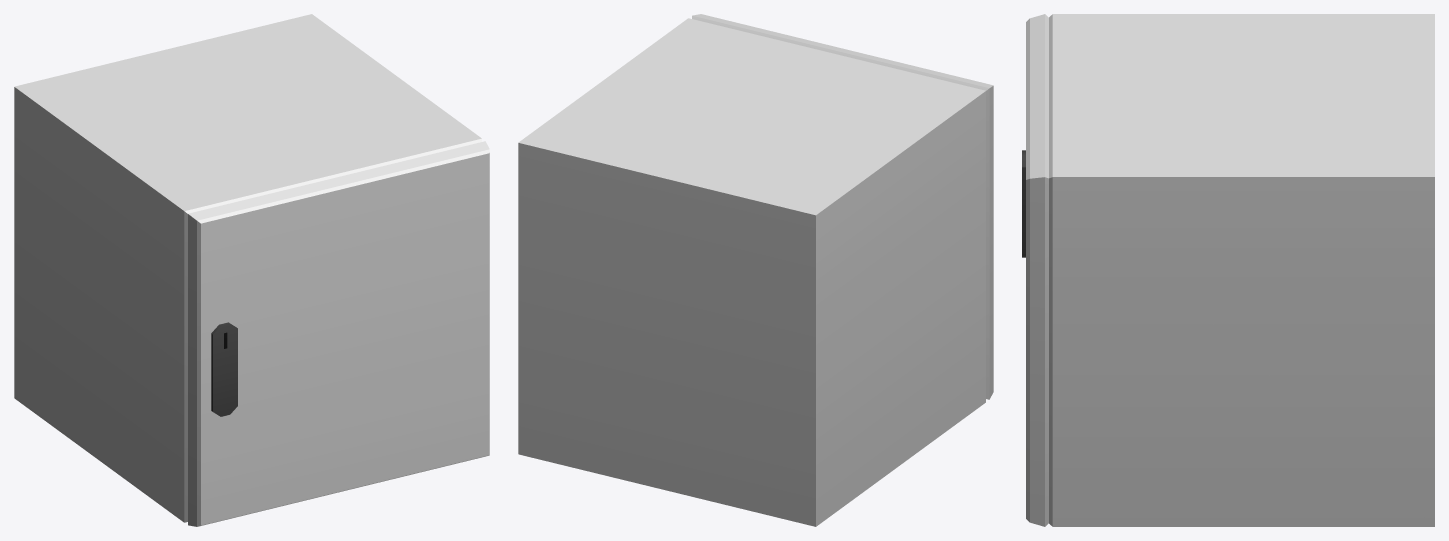
The model's file is CR_LockerB_002.FBX.
The picture shows the model from 3 angles, left to right: view 1: azimuth 30°, elevation 25°; view 2: azimuth 150°, elevation 25°; view 3: azimuth 270°, elevation 25°; orthographic projection. The views are drawn at different scales.
Parts seen in each view (by area): view 1: CR_LockerB_002, CR_LockerB_002_door; view 2: CR_LockerB_002, CR_LockerB_002_door; view 3: CR_LockerB_002, CR_LockerB_002_door.
Part boxes in pixels (box(x1,y1,x2,y2)): CR_LockerB_002: box(14, 14, 481, 522); CR_LockerB_002_door: box(188, 141, 489, 526); CR_LockerB_002: box(518, 18, 985, 526); CR_LockerB_002_door: box(692, 14, 993, 399); CR_LockerB_002: box(1049, 14, 1434, 526); CR_LockerB_002_door: box(1022, 14, 1048, 526).
Size of the model in its own units: 40 by 40 by 42.78.
1 material, 1 textured.
